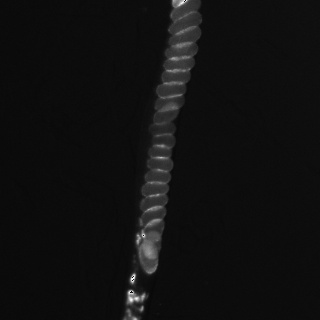embryo: (169, 11, 201, 35), (138, 238, 158, 274), (169, 26, 200, 48), (153, 101, 181, 124), (141, 231, 161, 260), (165, 40, 197, 58), (170, 0, 200, 19), (141, 218, 164, 242), (140, 206, 165, 227), (140, 193, 167, 212), (154, 94, 183, 111), (164, 55, 194, 71), (156, 82, 185, 98), (162, 69, 190, 85), (141, 182, 168, 196), (150, 122, 174, 137), (147, 156, 172, 170), (145, 169, 170, 182), (152, 133, 174, 146), (149, 144, 171, 157)
